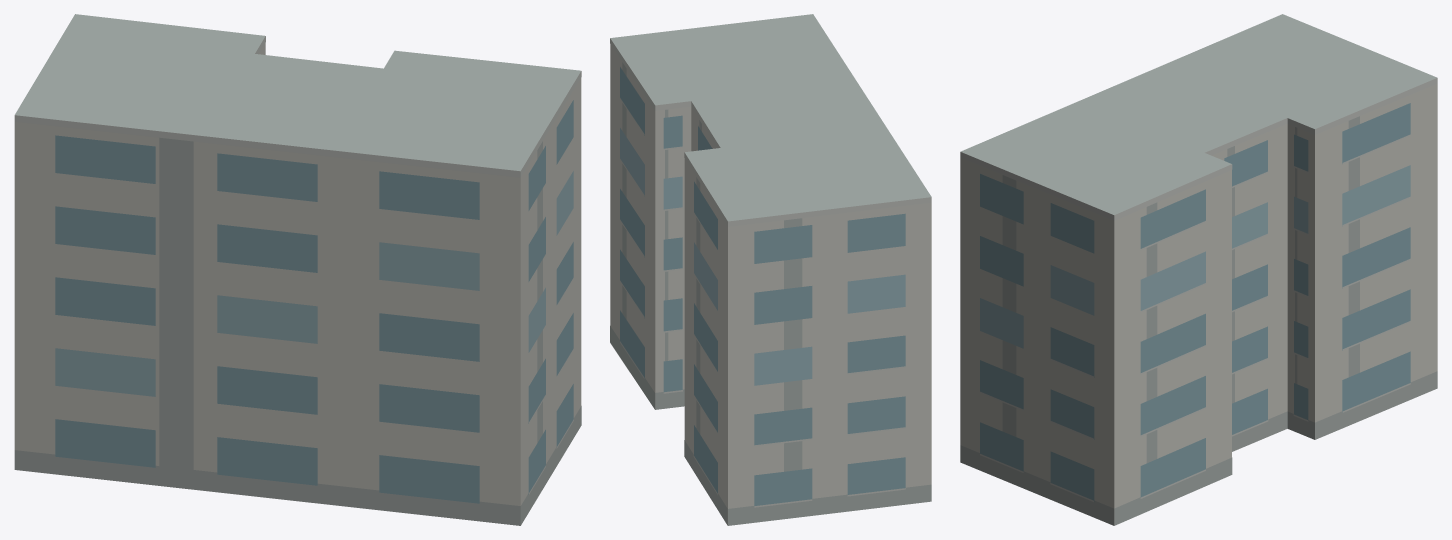
Rendered from survey-upis-32810750.glb.
3 renders of one model, left to right at view 1: azimuth 30°, elevation 25°; view 2: azimuth 150°, elevation 25°; view 3: azimuth 270°, elevation 25°, orthographic. The views are drawn at different scales.
Parts seen in each view (by area): view 1: survey-upis-32810750.tmp; view 2: survey-upis-32810750.tmp; view 3: survey-upis-32810750.tmp.
Boxes of the visible parts, x1=… form: survey-upis-32810750.tmp: x1=14, y1=14, x2=581, y2=525; survey-upis-32810750.tmp: x1=610, y1=14, x2=931, y2=525; survey-upis-32810750.tmp: x1=960, y1=14, x2=1437, y2=525.
Size of the model in its own units: 18.41 by 13.25 by 18.46.
